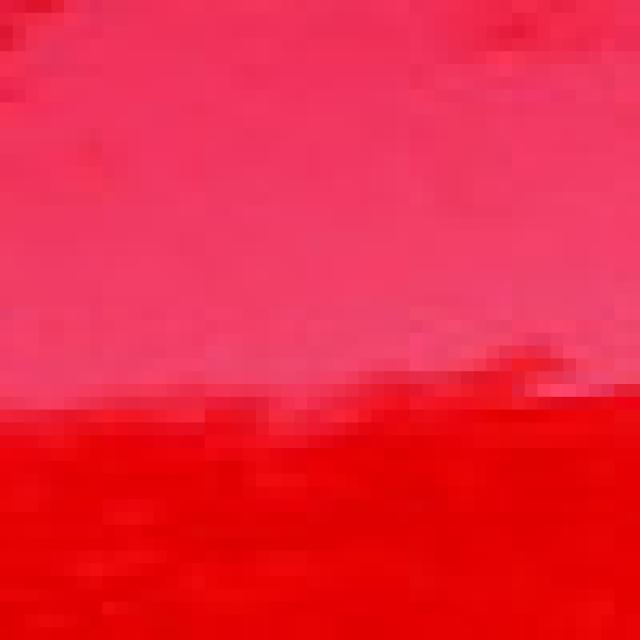no_fire: (14, 42, 617, 590)
